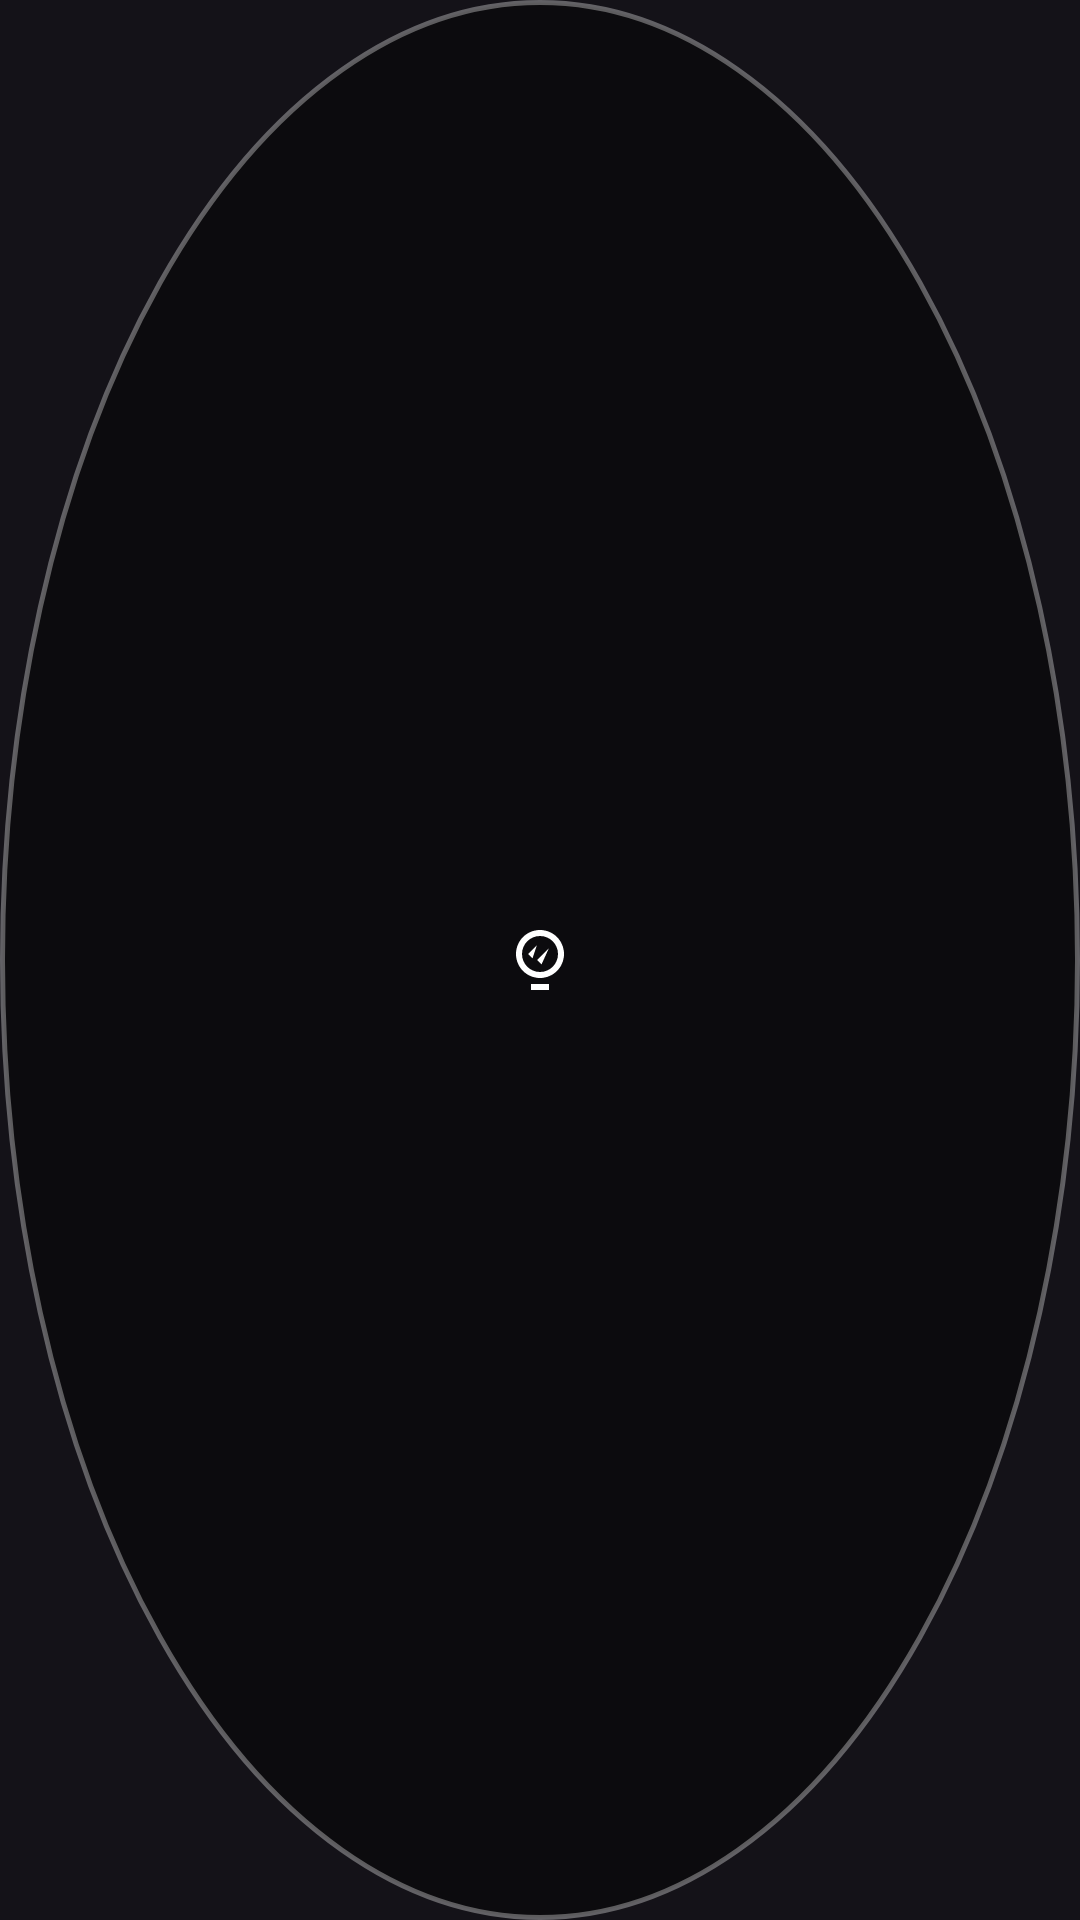

Named icons in this screenshot (1080px×1920px) and their centers, point (x, y):
Miroir: point (540, 960)
